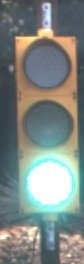Green: (13, 21, 76, 227)
